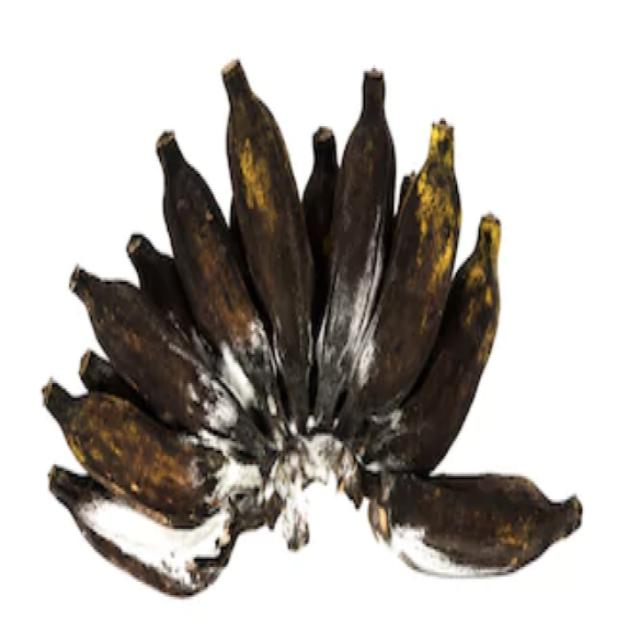banana: (71, 269, 268, 459), (367, 216, 500, 475), (157, 133, 279, 412), (223, 62, 313, 427), (350, 122, 461, 416), (315, 72, 395, 426), (43, 382, 224, 527), (50, 468, 237, 596), (370, 475, 581, 575), (303, 128, 338, 336), (128, 234, 193, 338), (79, 350, 147, 409), (398, 173, 415, 213)
